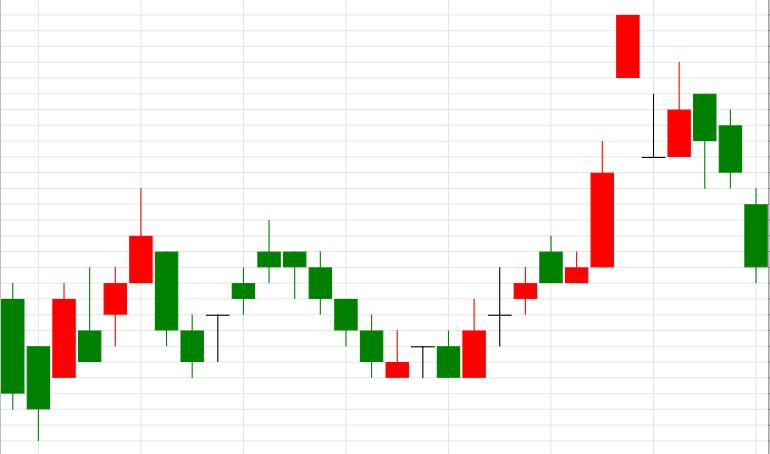bullish_engulfing_rise: (258, 219, 485, 378)
